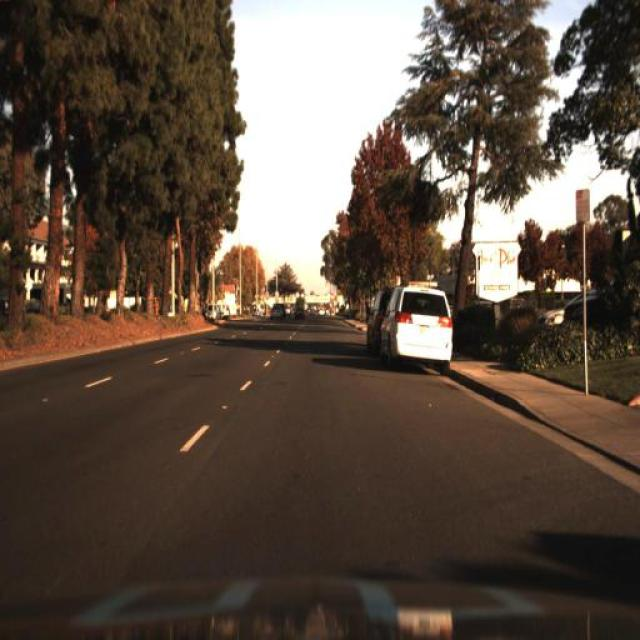car: (382, 284, 456, 368), (360, 283, 389, 368), (266, 298, 286, 322), (289, 300, 307, 326), (207, 300, 222, 326)
